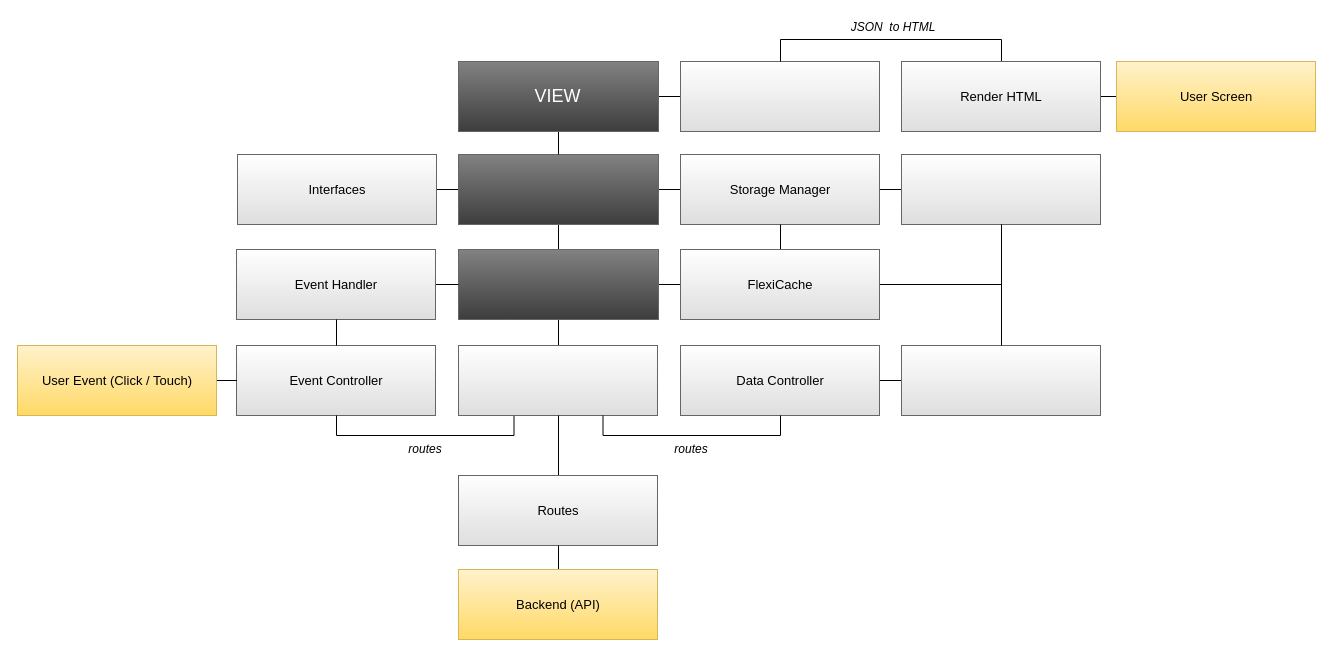
Image size: 1333x657. Some labels were removed from this diagram. The shapes that lost their labels are listed below. From the top down, each one's centre as x and y in pixels, then its label:
At [780,96]: "Layout Manager".
At [558,189]: "MODEL".
At [1000,189]: "NO-SQL Store".
At [558,284]: "CONTROLLER".
At [558,380]: "Request Controller".
At [1000,380]: "Data Mapper".
